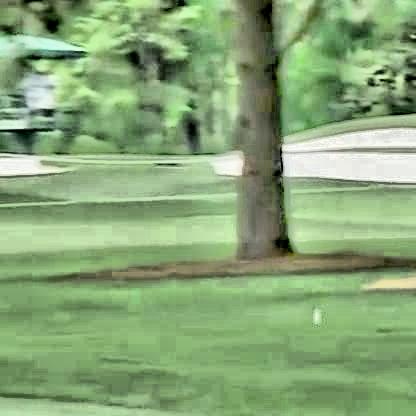golfball: (309, 299, 319, 318)
